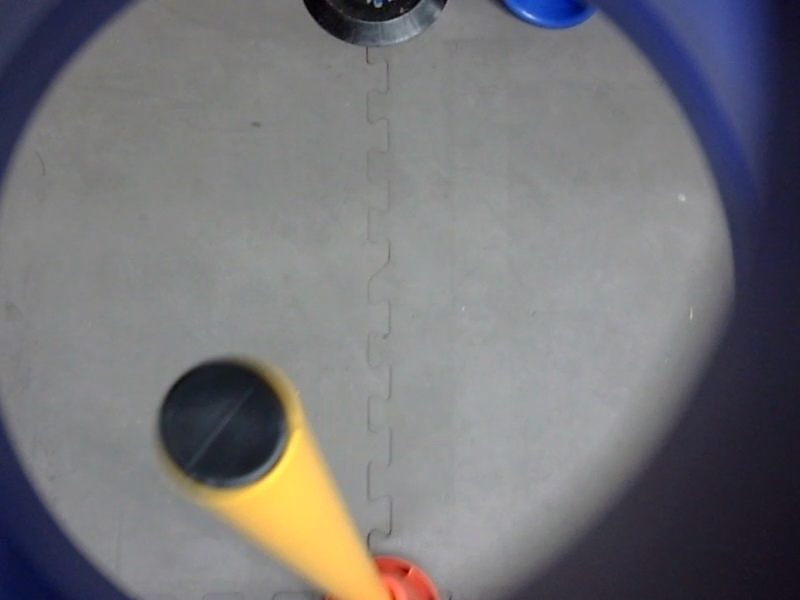tip: (151, 348, 305, 504)
